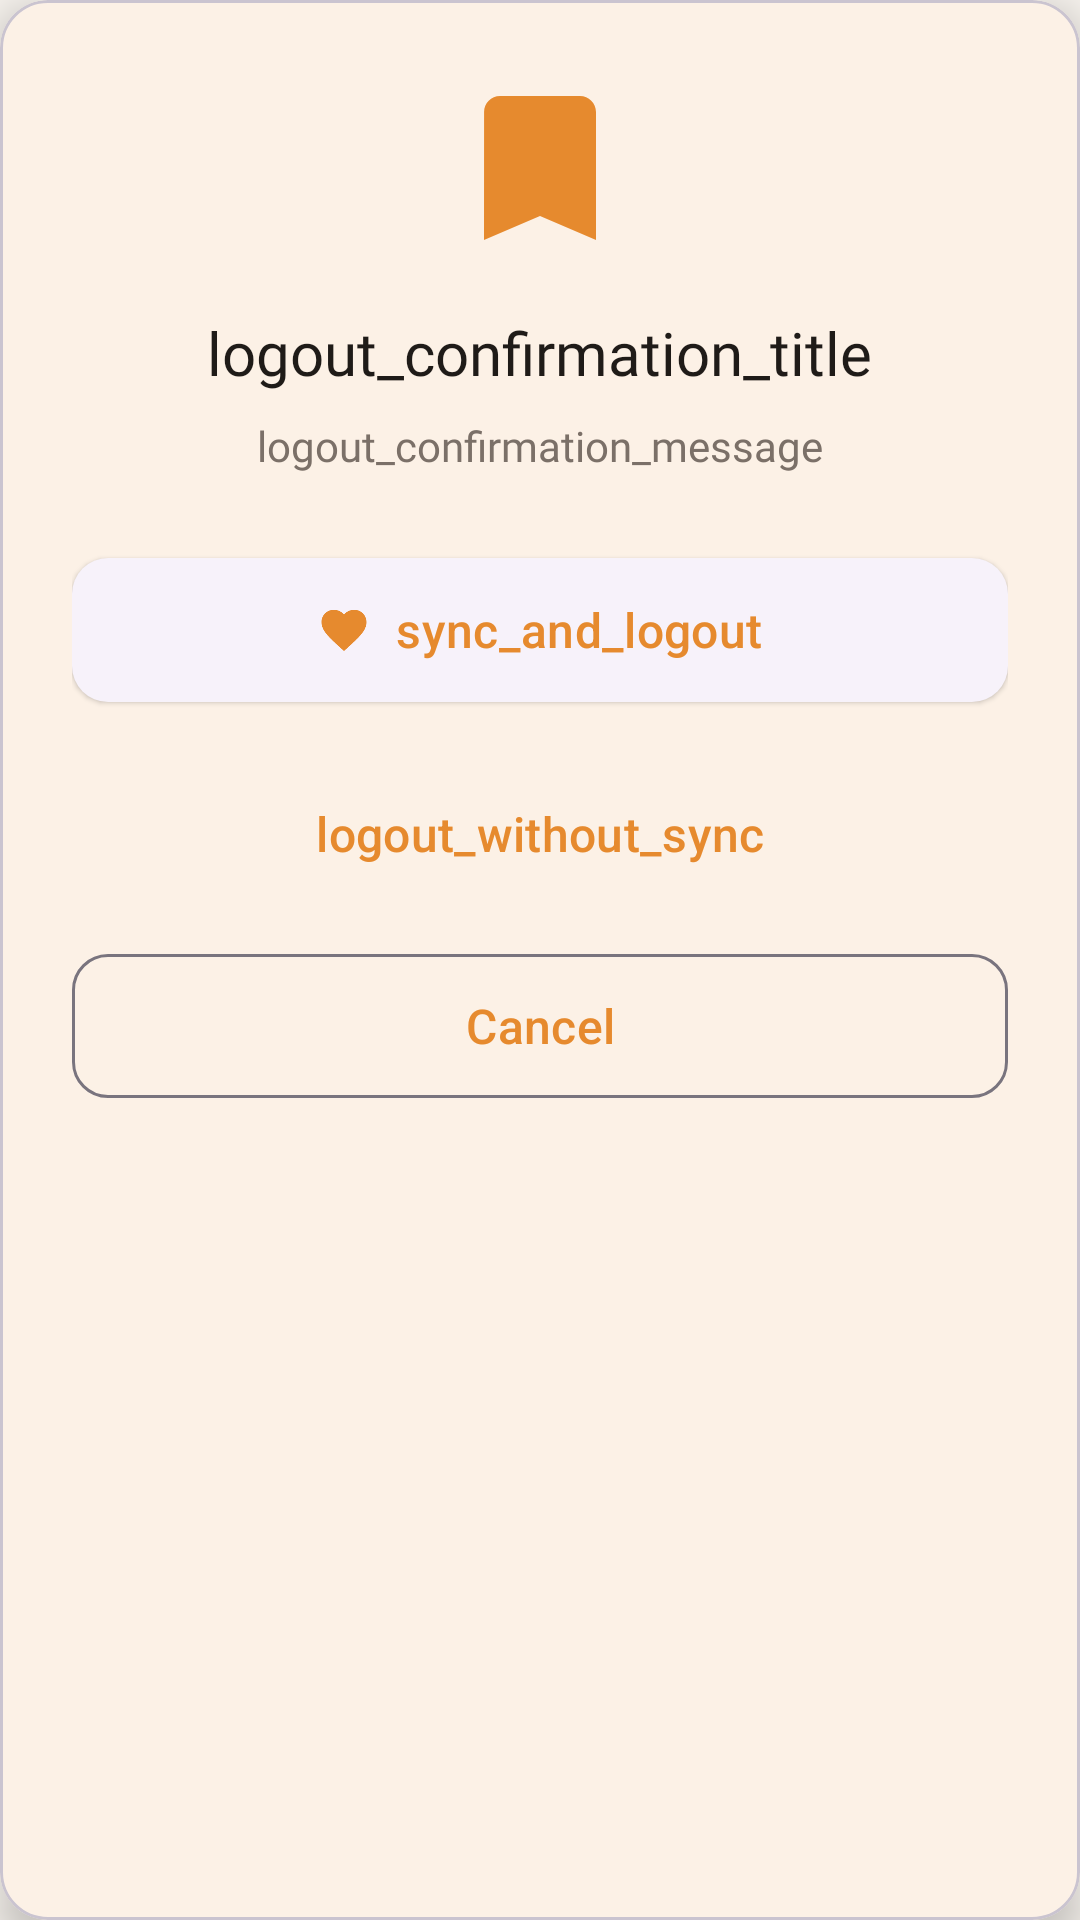

Named icons in this screenshot (1080x1920) and their bounding boxes, {"x1": x1, "y1": y1, "x2": x2, "y2": y2}:
bookmark: {"x1": 484, "y1": 96, "x2": 596, "y2": 240}
